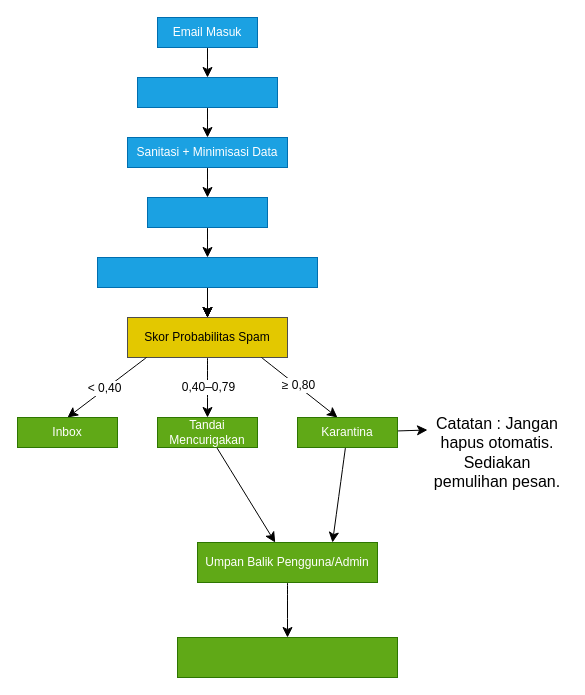
This 585x695 diagram has some shape labels left out. The shapes that lost their labels are listed below. From the top down, each one's box as (x1, y1, x2, y2) in pixels, then its label:
(136, 76, 278, 108): Ekstraksi Subjek dan Isi
(146, 196, 268, 228): TF-IDF Vectorizer
(96, 256, 318, 288): Model Multinomial Naive Bayes
(176, 636, 398, 678): Evaluasi dan Retraining
